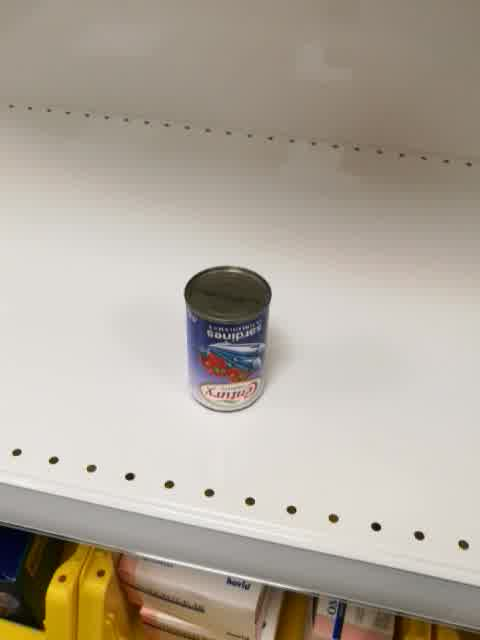sardine: (183, 266, 273, 414)
